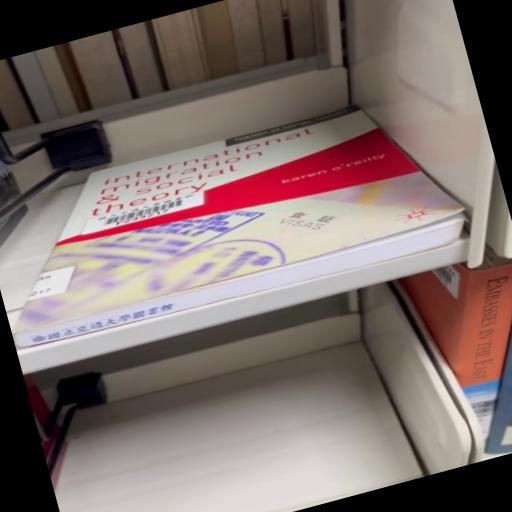flat: (12, 107, 464, 348)
